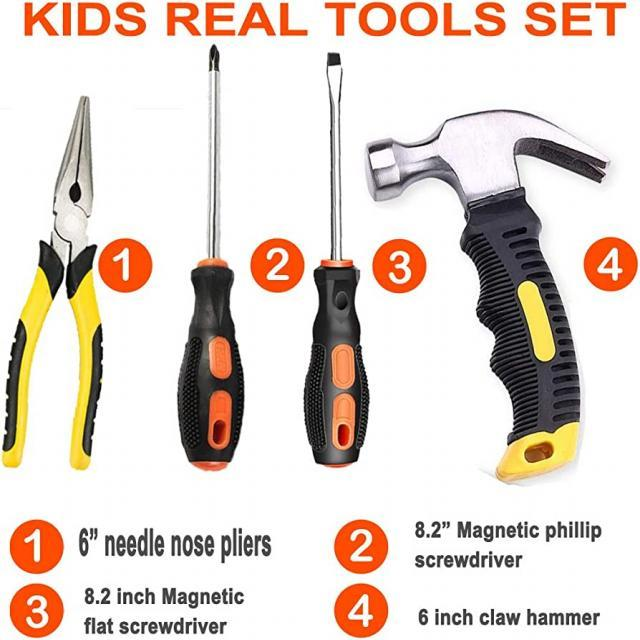hammer: (362, 102, 626, 521)
screwdriver: (168, 40, 262, 484), (294, 26, 384, 479)
